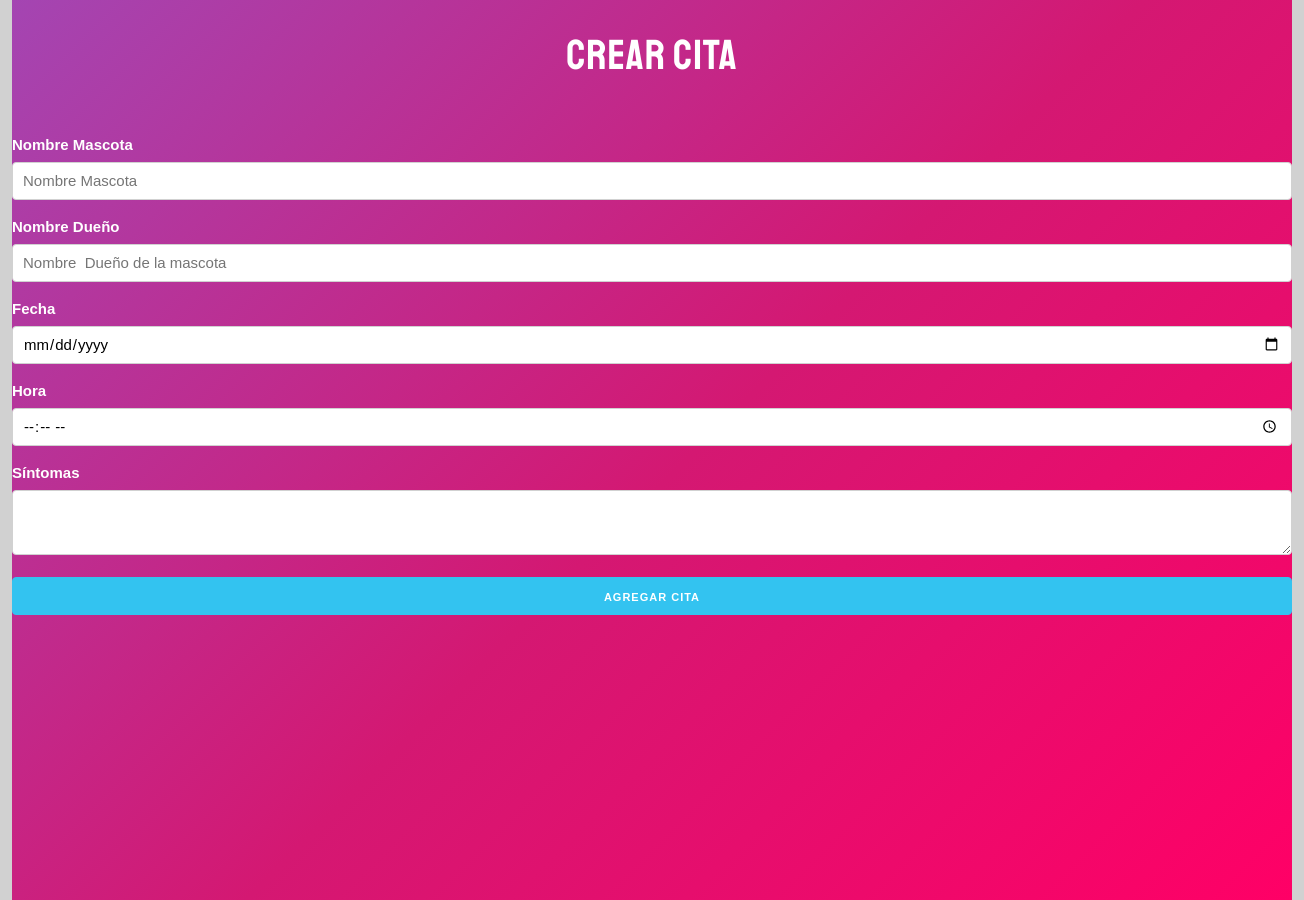
Test: <Formulario /> Calidación de formulario
The width and height of the screenshot is (1304, 900).
Step 1. Click the button with test id "btn-submit" → point(652, 596), box 12,576 -> 1292,614
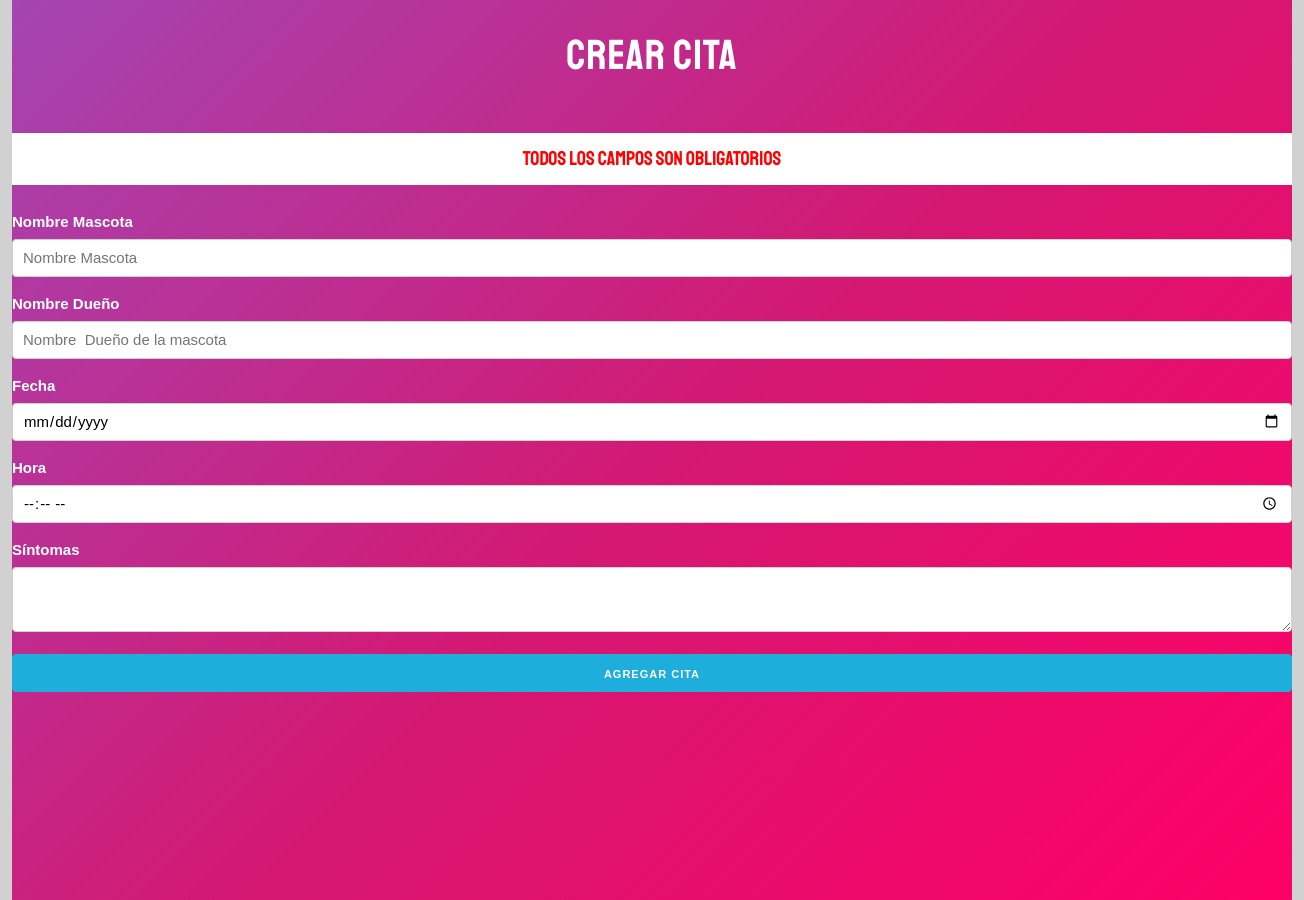
Result: the text "Todos los campos son obligatorios" is shown at 12,132 -> 1292,184
Result: the text with test id "alert" reads "Todos los campos son obligatorios" at 523,146 -> 781,170
